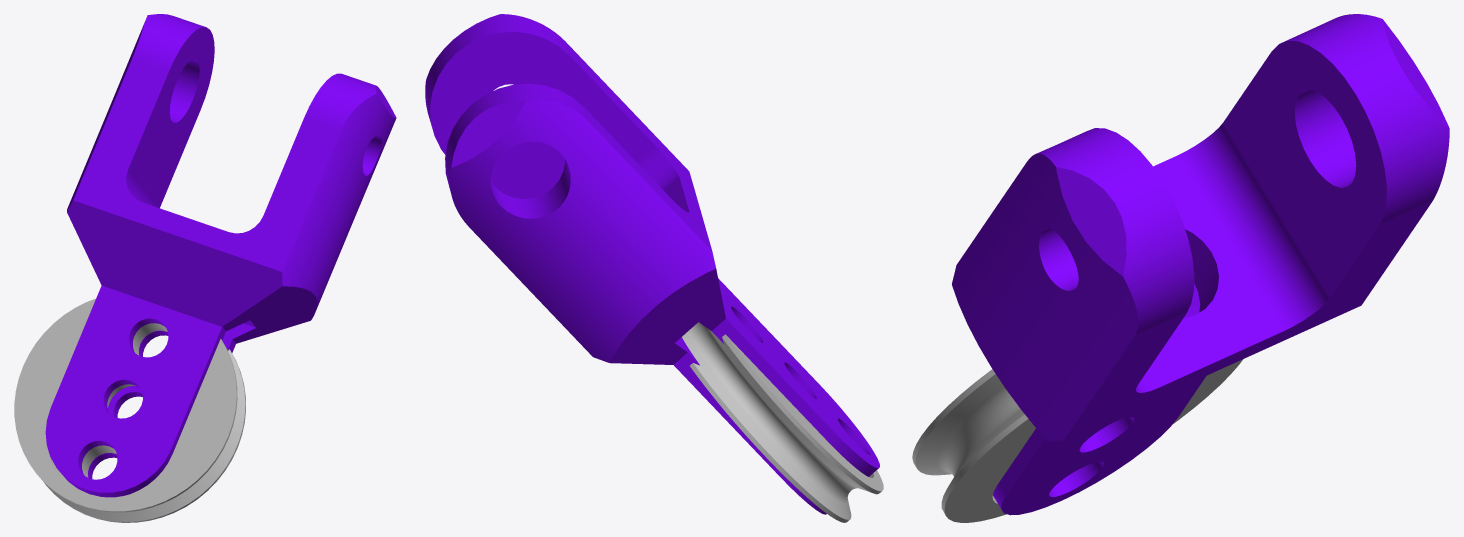
The model's file is wrist.dae.
The picture shows the model from 3 angles, left to right: view 1: azimuth 30°, elevation 25°; view 2: azimuth 150°, elevation 25°; view 3: azimuth 270°, elevation 25°; orthographic projection. The views are drawn at different scales.
Visible parts, largest first — view 1: Actor1, Actor0; view 2: Actor1, Actor0; view 3: Actor1, Actor0.
Part boxes in pixels (x1=…): Actor1: x1=45, y1=14, x2=396, y2=497; Actor0: x1=14, y1=298, x2=245, y2=522; Actor1: x1=425, y1=14, x2=879, y2=514; Actor0: x1=682, y1=322, x2=883, y2=522; Actor1: x1=952, y1=14, x2=1449, y2=515; Actor0: x1=912, y1=359, x2=1242, y2=522.
Size of the model in its own units: 0.0159 by 0.0158 by 0.0127.
